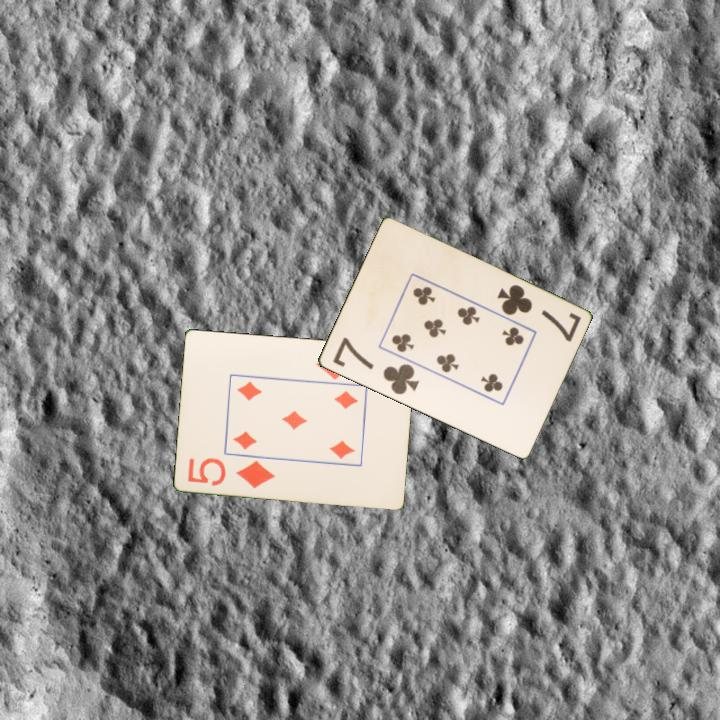5d: (184, 454, 278, 491)
7c: (329, 334, 422, 398), (493, 281, 584, 345)
